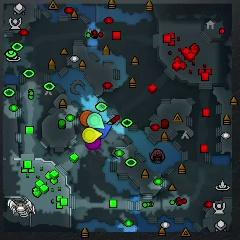p1: (95, 124, 112, 140)
p2: (87, 112, 105, 129)
p3: (86, 138, 102, 150)
p4: (82, 128, 102, 143)
p5: (80, 110, 93, 127)
